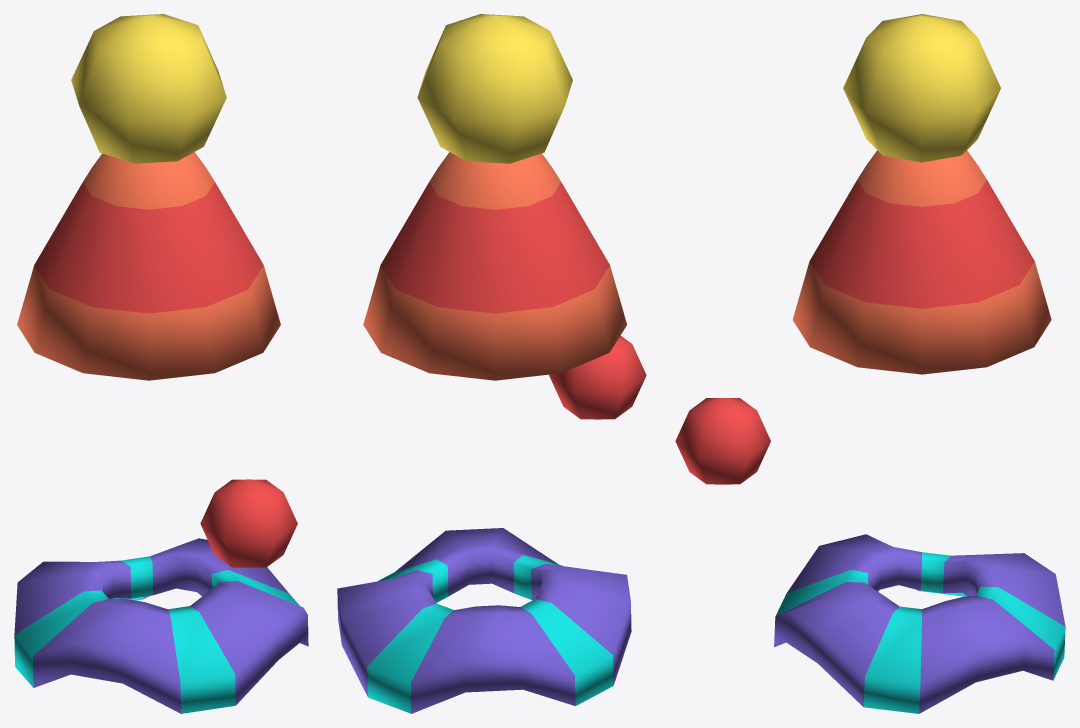
File: Clown.fbx
The picture shows the model from 3 angles, left to right: view 1: azimuth 30°, elevation 25°; view 2: azimuth 150°, elevation 25°; view 3: azimuth 270°, elevation 25°; orthographic projection.
Parts seen in each view (by area): view 1: Clown_Hat, Clown_NeckRing, Clown_NoseSphere; view 2: Clown_Hat, Clown_NeckRing, Clown_NoseSphere; view 3: Clown_Hat, Clown_NeckRing, Clown_NoseSphere.
Part boxes in pixels (x1=…): Clown_Hat: x1=17, y1=14, x2=280, y2=380; Clown_NeckRing: x1=14, y1=538, x2=308, y2=713; Clown_NoseSphere: x1=200, y1=479, x2=297, y2=567; Clown_Hat: x1=363, y1=14, x2=626, y2=380; Clown_NeckRing: x1=337, y1=528, x2=631, y2=713; Clown_NoseSphere: x1=549, y1=335, x2=646, y2=419; Clown_Hat: x1=792, y1=14, x2=1051, y2=374; Clown_NeckRing: x1=774, y1=534, x2=1065, y2=713; Clown_NoseSphere: x1=675, y1=398, x2=770, y2=484.
Size of the model in its own units: 114 by 276 by 154.
